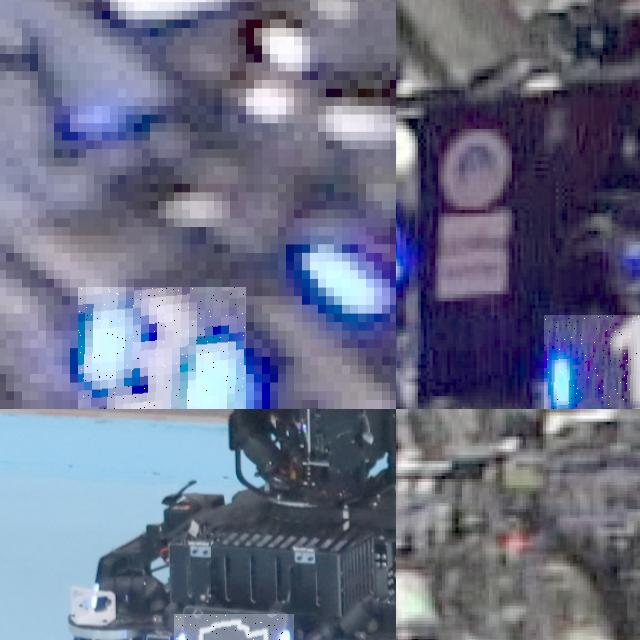B1: (544, 315, 640, 409)
B3: (78, 287, 246, 409)
Bs: (174, 614, 293, 640)
